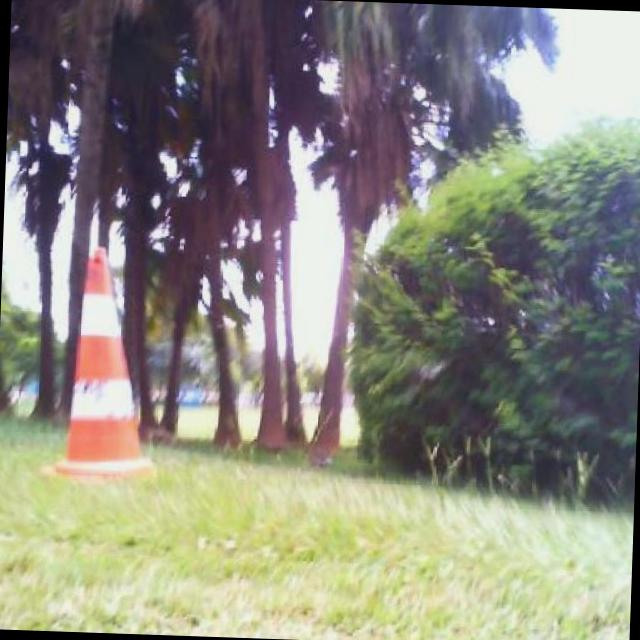Cone: (41, 244, 160, 486)
